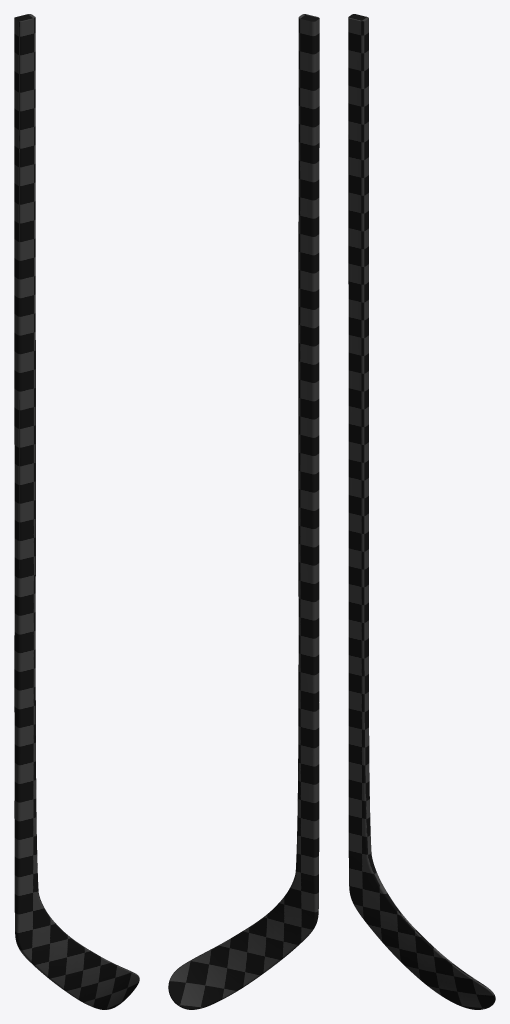
Rendered from P25-1-4-ST-LIE6_0.glb.
The picture shows the model from 3 angles, left to right: view 1: azimuth 30°, elevation 25°; view 2: azimuth 150°, elevation 25°; view 3: azimuth 330°, elevation 25°; orthographic projection. The views are drawn at different scales.
Visible parts, largest first — view 1: geometry_0; view 2: geometry_0; view 3: geometry_0.
Part boxes in pixels (box(x1,y1,x2,y2)): geometry_0: box(14, 14, 139, 1009); geometry_0: box(168, 14, 319, 1009); geometry_0: box(348, 14, 495, 1009).
Bounding box in the file's own units: 231 × 1650 × 64.7.
1 material, 1 textured.
